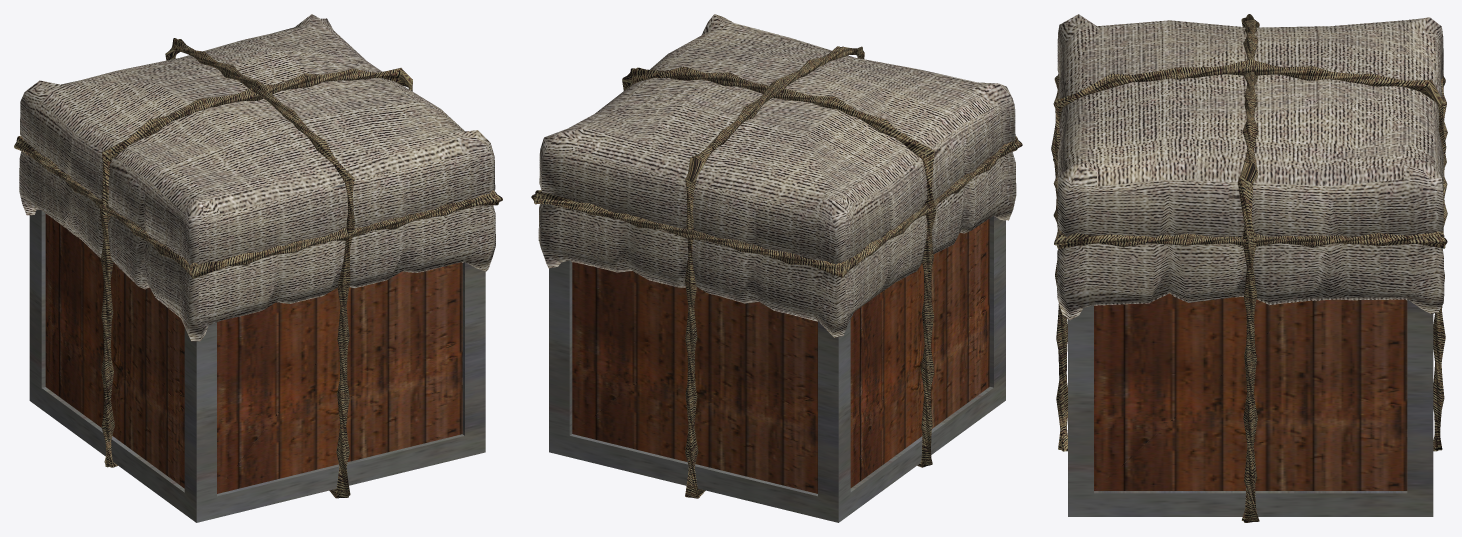
File: Crate_ClothCovered.FBX
3 views of the same model, side by side, from view 1: azimuth 30°, elevation 25°; view 2: azimuth 150°, elevation 25°; view 3: azimuth 270°, elevation 25° (orthographic). The views are drawn at different scales.
Visible parts, largest first — view 1: ChamferBox001, crate001, Loft005, Loft004, Loft003; view 2: ChamferBox001, crate001, Loft005, Loft004, Loft003; view 3: ChamferBox001, crate001, Loft004, Loft005, Loft003.
Boxes of the visible parts, x1,y1,x2,y2 form: ChamferBox001: (19,14,495,341); crate001: (29,184,485,522); Loft005: (99,68,412,467); Loft004: (165,38,355,498); Loft003: (14,136,502,278); ChamferBox001: (538,14,1016,337); crate001: (549,185,1005,522); Loft005: (622,66,936,467); Loft004: (685,46,864,498); Loft003: (531,136,1022,277); ChamferBox001: (1057,14,1444,320); crate001: (1068,104,1433,516); Loft004: (1051,59,1446,451); Loft005: (1237,14,1259,522); Loft003: (1053,74,1447,248).
Bounding box in the file's own units: 198 × 213 × 197.
4 materials, 4 textured.
